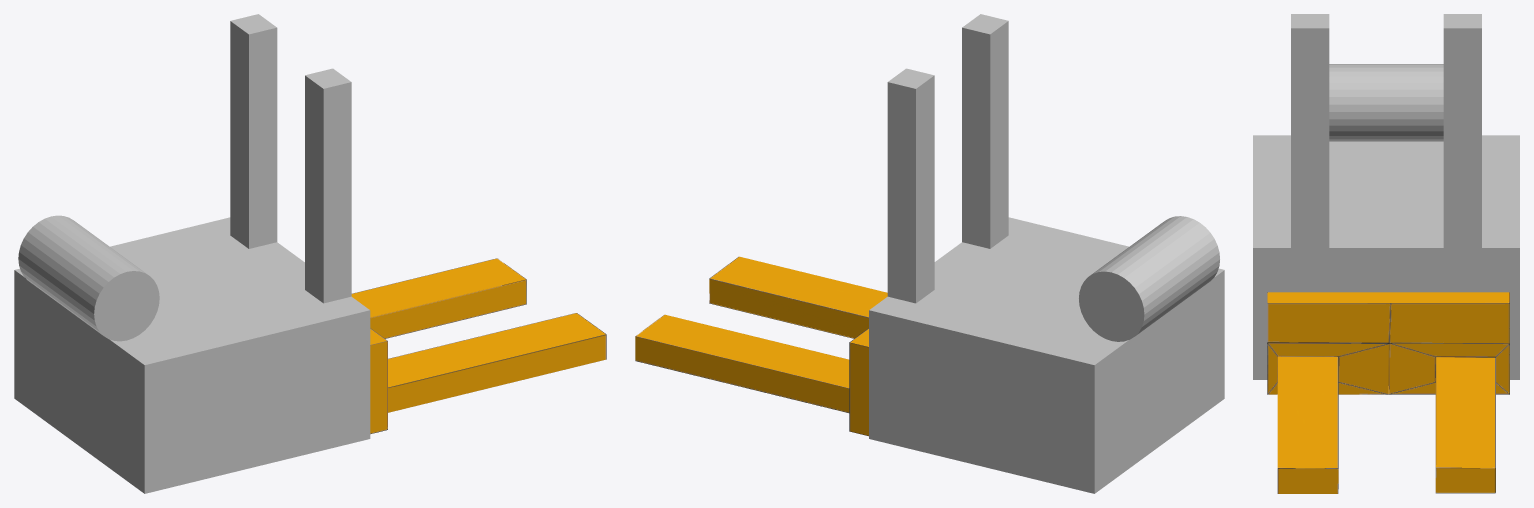
The model's file is forklift.obj.
3 views of the same model, side by side, from view 1: azimuth 30°, elevation 25°; view 2: azimuth 150°, elevation 25°; view 3: azimuth 270°, elevation 25° (orthographic). The views are drawn at different scales.
Parts seen in each view (by area): view 1: Cube.001, Cube; view 2: Cube.001, Cube; view 3: Cube.001, Cube.
Part boxes in pixels (x1,y1,x2,y2): Cube.001: (14, 14, 370, 493); Cube: (351, 258, 606, 433); Cube.001: (869, 14, 1224, 493); Cube: (635, 256, 887, 436); Cube.001: (1253, 14, 1519, 379); Cube: (1267, 292, 1509, 493).
Bounding box in the file's own units: 4.85 × 3.22 × 2.2.
